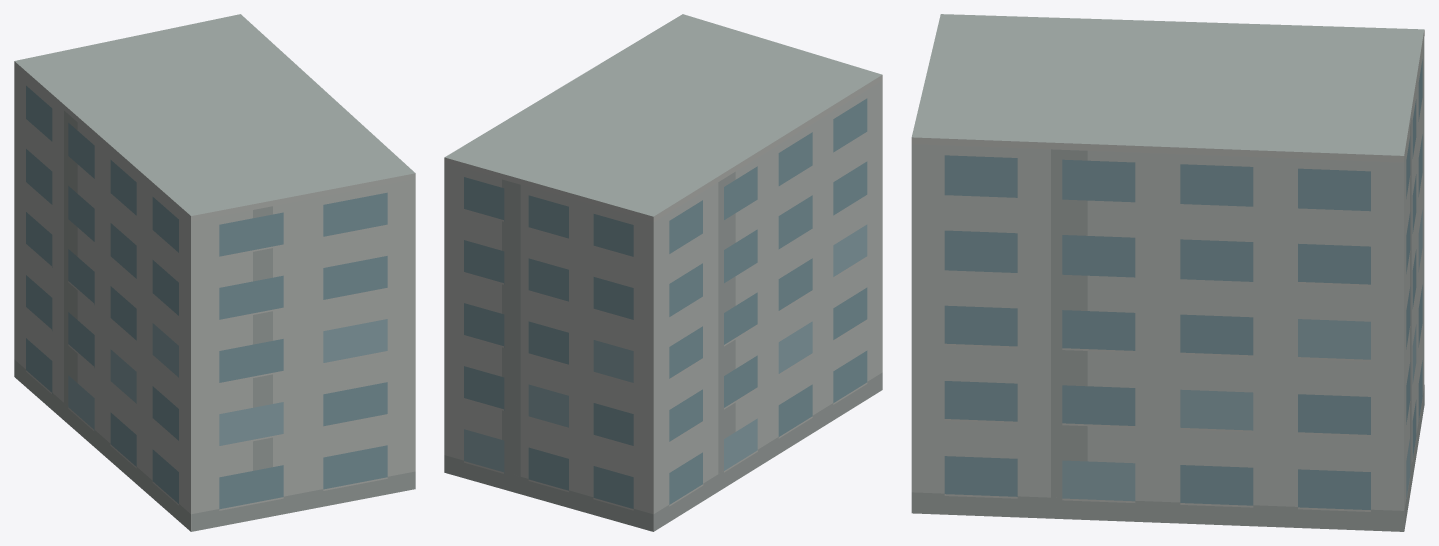
The model's file is survey-upis-32821107.glb.
3 views of the same model, side by side, from view 1: azimuth 30°, elevation 25°; view 2: azimuth 150°, elevation 25°; view 3: azimuth 270°, elevation 25° (orthographic). The views are drawn at different scales.
Visible parts, largest first — view 1: survey-upis-32821107.tmp; view 2: survey-upis-32821107.tmp; view 3: survey-upis-32821107.tmp.
Boxes of the visible parts, <box> form: survey-upis-32821107.tmp: <box>14,14,415,531</box>; survey-upis-32821107.tmp: <box>444,14,882,531</box>; survey-upis-32821107.tmp: <box>911,14,1424,531</box>.
Size of the model in its own units: 10.94 by 13.5 by 16.7.
